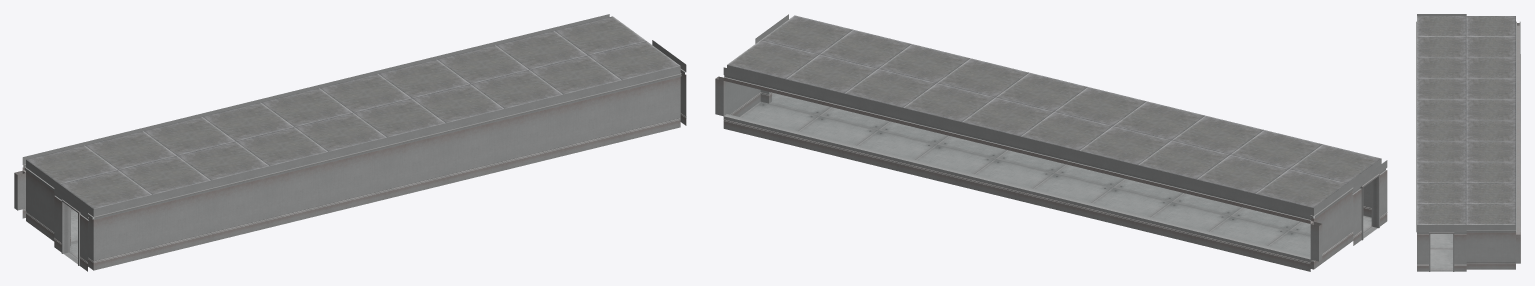
Rendered from Level_02_B_1.2.fbx.
The picture shows the model from 3 angles, left to right: view 1: azimuth 30°, elevation 25°; view 2: azimuth 150°, elevation 25°; view 3: azimuth 270°, elevation 25°; orthographic projection. The views are drawn at different scales.
Visible parts, largest first — view 1: level, windows; view 2: level, windows; view 3: level, windows.
Boxes of the visible parts, <box> form: level: <box>14,16,686,271</box>; windows: <box>22,14,609,218</box>; level: <box>715,14,1387,269</box>; windows: <box>723,65,1313,271</box>; level: <box>1416,14,1520,271</box>; windows: <box>1516,21,1520,262</box>.
Bounding box in the file's own units: 3085 × 300 × 636.
7 materials, 6 textured.
